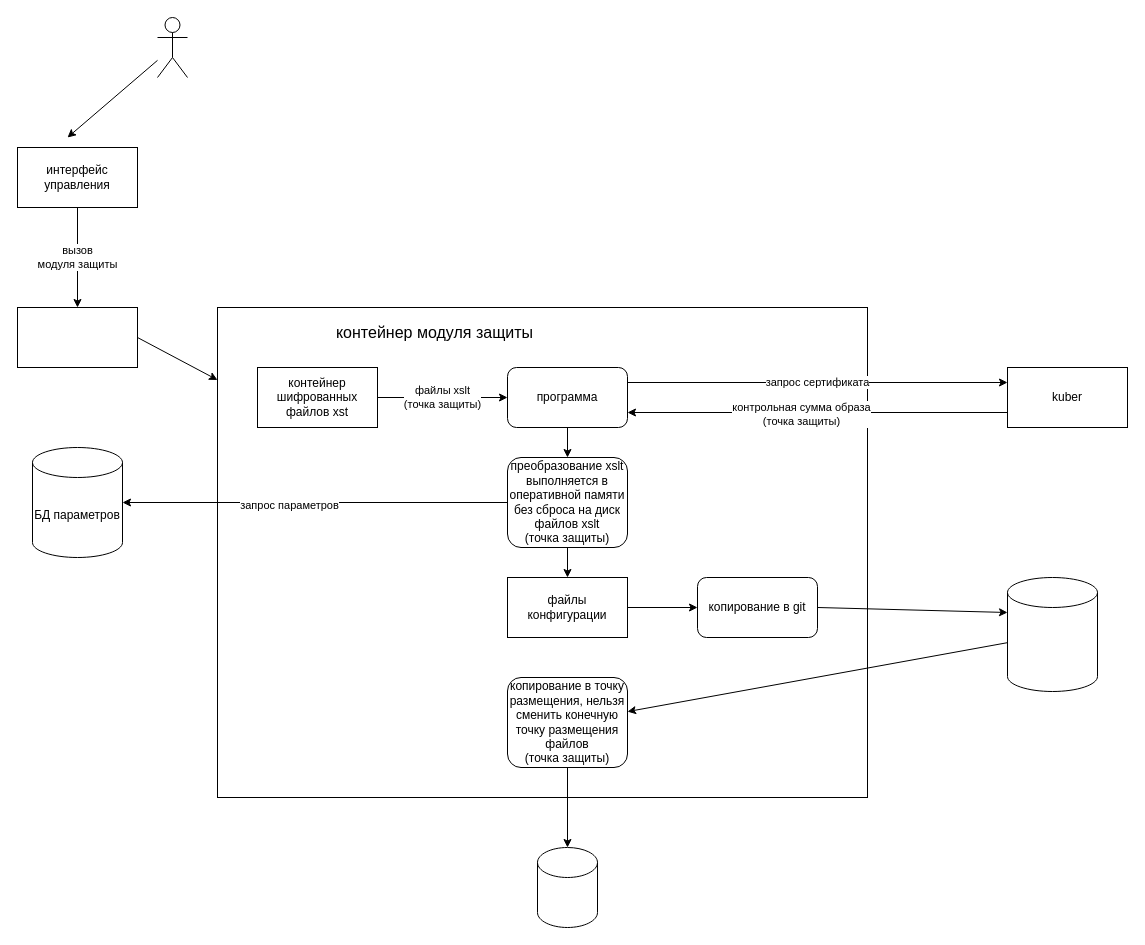
The diagram is 1145 pixels wide and 945 high, and some of its shapes have lost their labels. Here are the shapes that lost their labels. From the top down, the box of each, then its label:
(156, 16, 188, 78): Actor
(16, 306, 138, 368): airflow
(1006, 576, 1098, 692): git
(536, 846, 598, 928): NFS/S3
